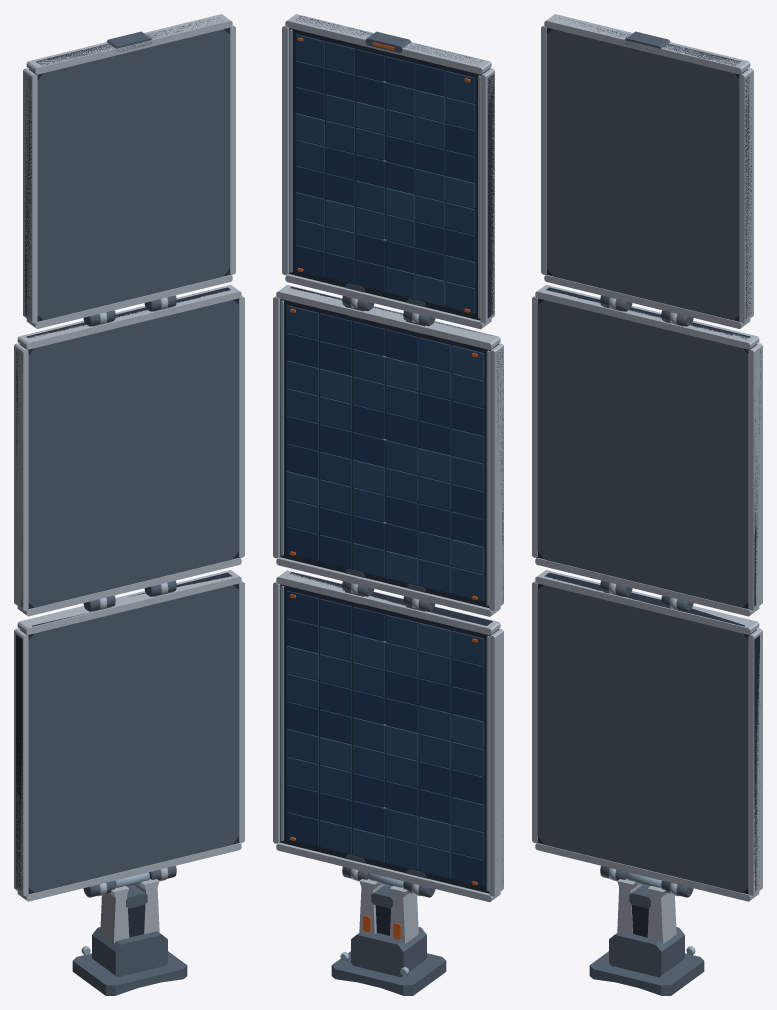
Rendered from solar_p01.glb.
3 views of the same model, side by side, from view 1: azimuth 30°, elevation 25°; view 2: azimuth 150°, elevation 25°; view 3: azimuth 330°, elevation 25° (orthographic).
Parts seen in each view (by area): view 1: SOLAR-P01 | Segmento 01 | Marco, bisagra y celdas, SOLAR-P01 | Segmento 02 | Marco, bisagra y celdas, SOLAR-P01 | Segmento 03 | Marco, bisagra y celdas, SOLAR-P01 | Zapata curva y brazo de montaje; view 2: SOLAR-P01 | Segmento 01 | Marco, bisagra y celdas, SOLAR-P01 | Segmento 02 | Marco, bisagra y celdas, SOLAR-P01 | Segmento 03 | Marco, bisagra y celdas, SOLAR-P01 | Zapata curva y brazo de montaje; view 3: SOLAR-P01 | Segmento 01 | Marco, bisagra y celdas, SOLAR-P01 | Segmento 02 | Marco, bisagra y celdas, SOLAR-P01 | Segmento 03 | Marco, bisagra y celdas, SOLAR-P01 | Zapata curva y brazo de montaje.
Part boxes in pixels (left/top/right/bottom): SOLAR-P01 | Segmento 01 | Marco, bisagra y celdas: left=14, top=570, right=244, bottom=901; SOLAR-P01 | Segmento 02 | Marco, bisagra y celdas: left=14, top=284, right=244, bottom=616; SOLAR-P01 | Segmento 03 | Marco, bisagra y celdas: left=23, top=14, right=235, bottom=328; SOLAR-P01 | Zapata curva y brazo de montaje: left=72, top=879, right=187, bottom=995; SOLAR-P01 | Segmento 01 | Marco, bisagra y celdas: left=273, top=570, right=503, bottom=902; SOLAR-P01 | Segmento 02 | Marco, bisagra y celdas: left=273, top=285, right=503, bottom=616; SOLAR-P01 | Segmento 03 | Marco, bisagra y celdas: left=282, top=14, right=494, bottom=329; SOLAR-P01 | Zapata curva y brazo de montaje: left=331, top=879, right=446, bottom=995; SOLAR-P01 | Segmento 01 | Marco, bisagra y celdas: left=532, top=570, right=762, bottom=901; SOLAR-P01 | Segmento 02 | Marco, bisagra y celdas: left=532, top=284, right=762, bottom=616; SOLAR-P01 | Segmento 03 | Marco, bisagra y celdas: left=541, top=14, right=753, bottom=328; SOLAR-P01 | Zapata curva y brazo de montaje: left=589, top=879, right=704, bottom=995.
Bounding box in the file's own units: 0.98 × 3.95 × 0.3.
